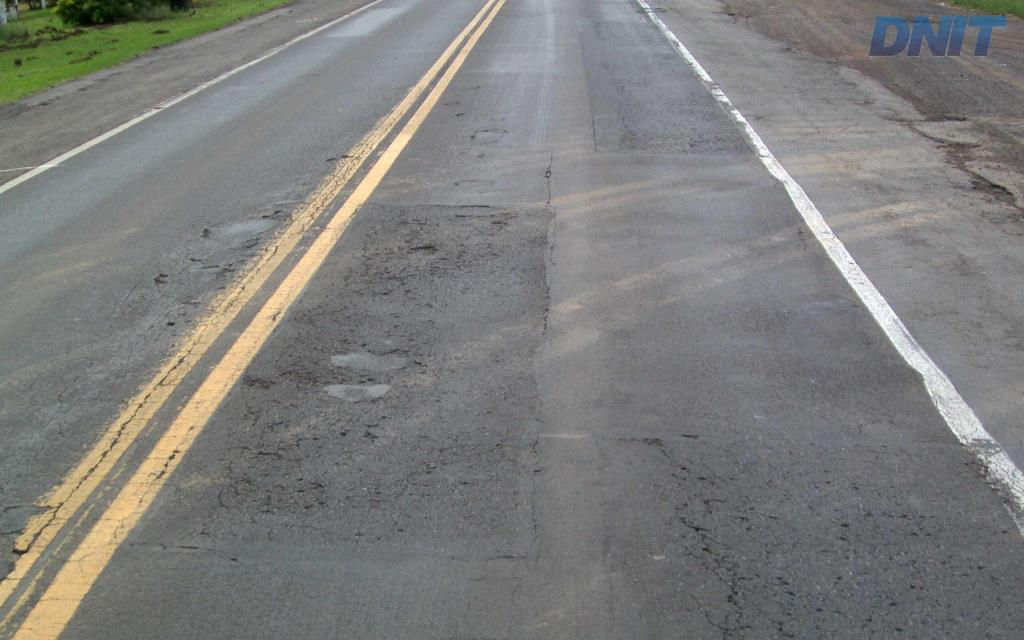crack: (674, 501, 833, 624), (862, 537, 955, 617), (242, 351, 352, 396), (239, 415, 309, 478), (216, 472, 300, 516), (958, 563, 1023, 617), (288, 478, 331, 517), (899, 514, 945, 548)
pothole: (395, 238, 443, 258)
